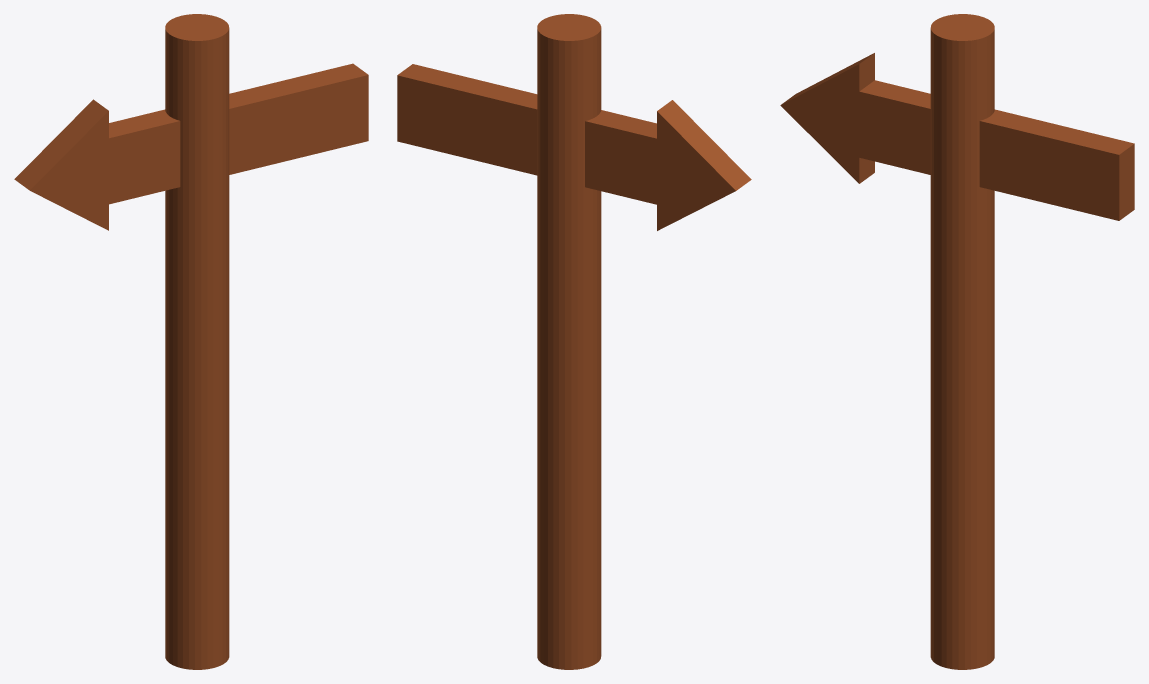
File: arrow.fbx
The picture shows the model from 3 angles, left to right: view 1: azimuth 30°, elevation 25°; view 2: azimuth 150°, elevation 25°; view 3: azimuth 330°, elevation 25°; orthographic projection.
Visible parts, largest first — view 1: 矢印; view 2: 矢印; view 3: 矢印.
Part boxes in pixels (x1,y1,x2,y2): 矢印: (14,14,368,669); 矢印: (397,14,751,669); 矢印: (780,14,1134,669).
Size of the model in its own units: 131 by 232 by 21.41.
